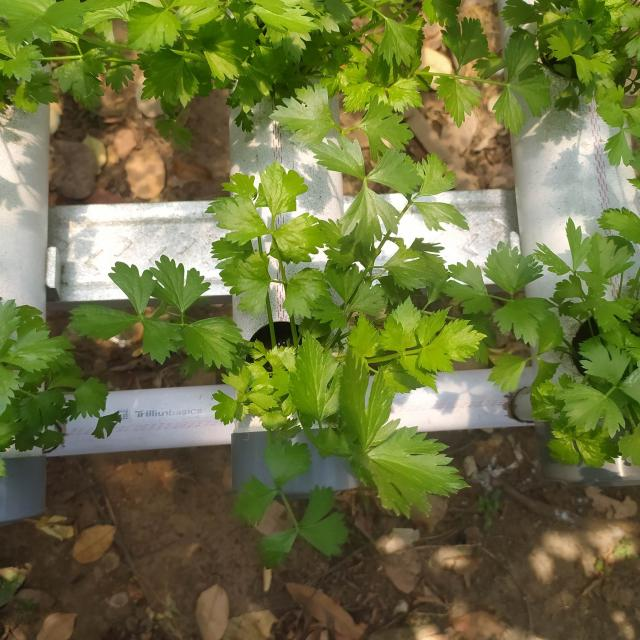Wet Waste: (160, 158, 550, 518)
